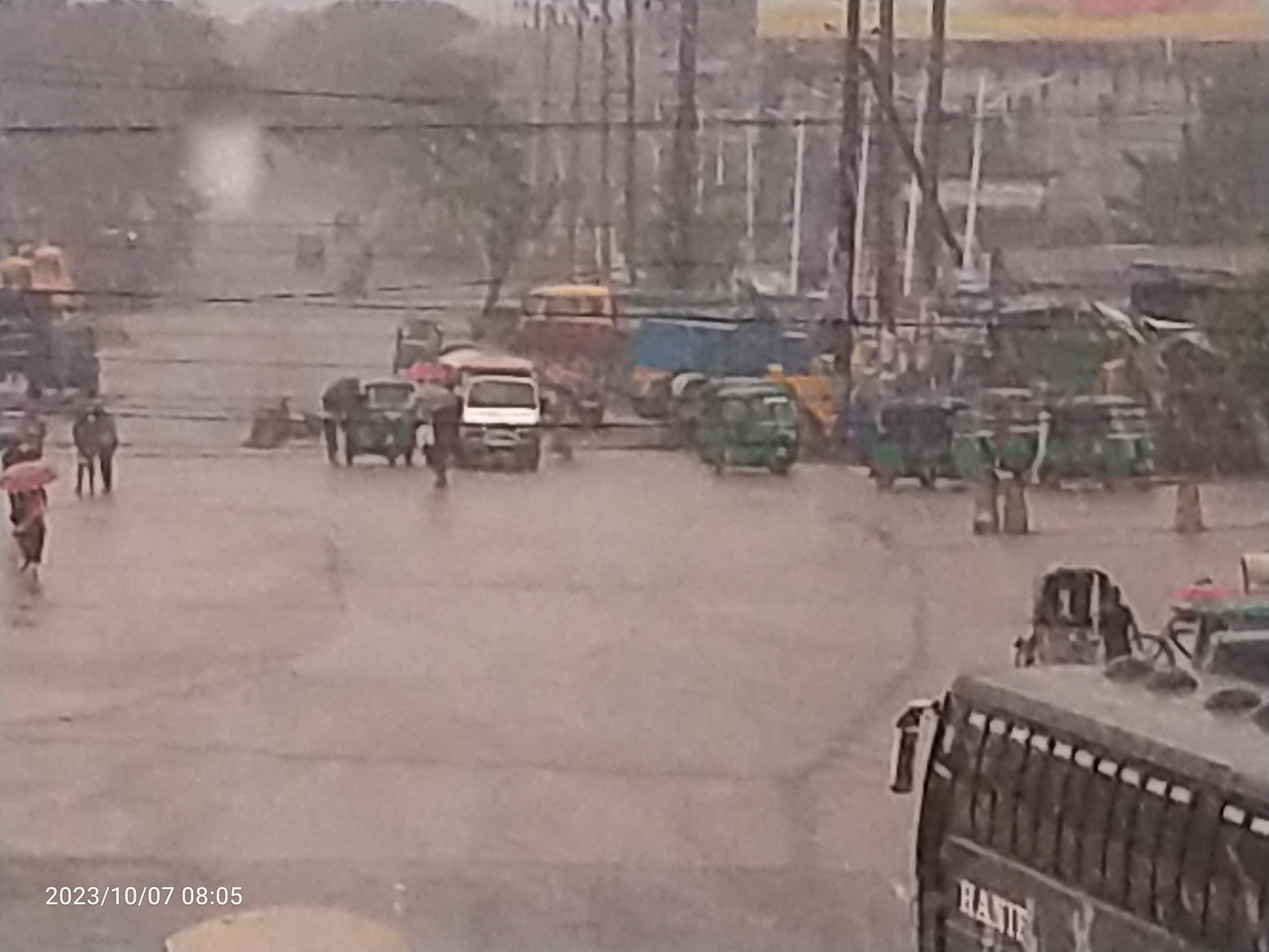Bus: (857, 638, 1269, 952)
Car: (988, 547, 1189, 684), (1151, 539, 1269, 677), (444, 350, 548, 491)
